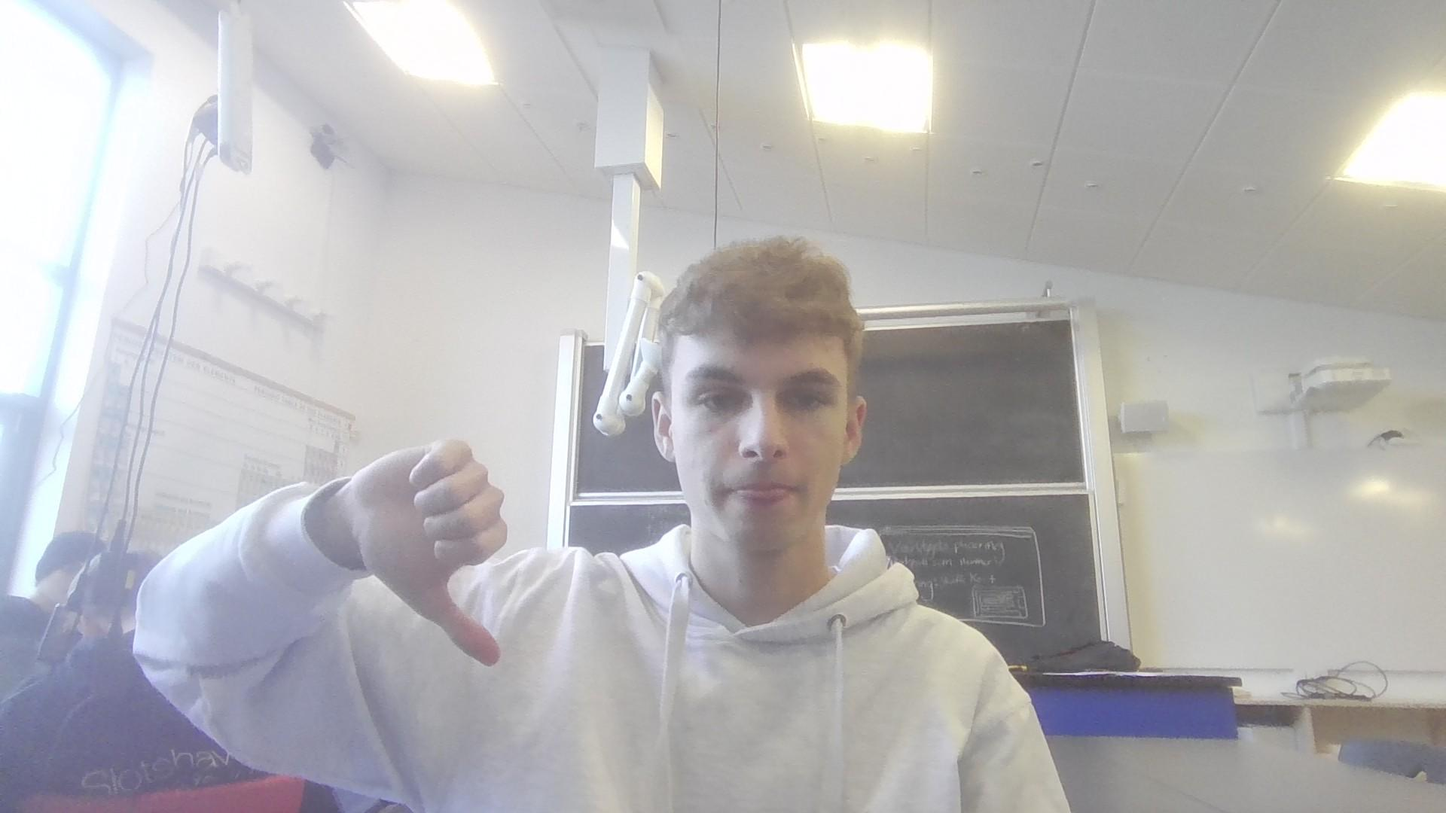thumbs down: (344, 430, 525, 667)
